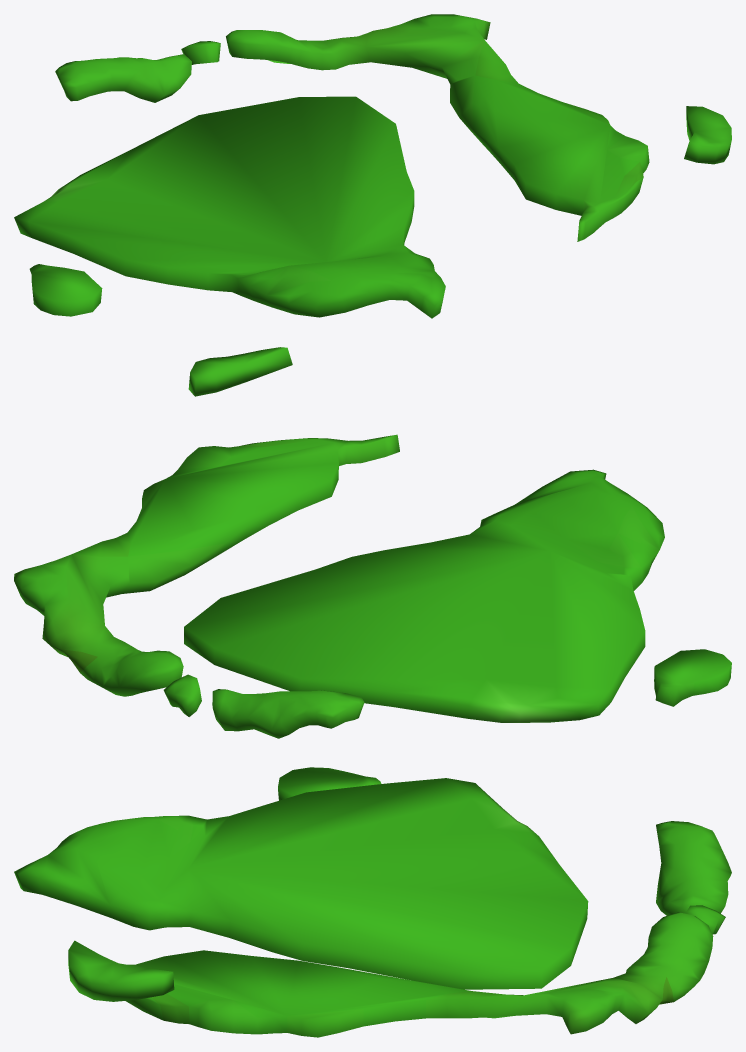
The model's file is grass.fbx.
3 views of the same model, one above another, from view 1: azimuth 30°, elevation 25°; view 2: azimuth 150°, elevation 25°; view 3: azimuth 270°, elevation 25° (orthographic). The views are drawn at different scales.
Visible parts, largest first — view 1: Island1Grass; view 2: Island1Grass; view 3: Island1Grass.
Boxes of the visible parts, x1=… form: Island1Grass: x1=14, y1=14, x2=731, y2=318; Island1Grass: x1=14, y1=347, x2=731, y2=738; Island1Grass: x1=14, y1=767, x2=731, y2=1037.
Size of the model in its own units: 1184 by 232 by 1137.
